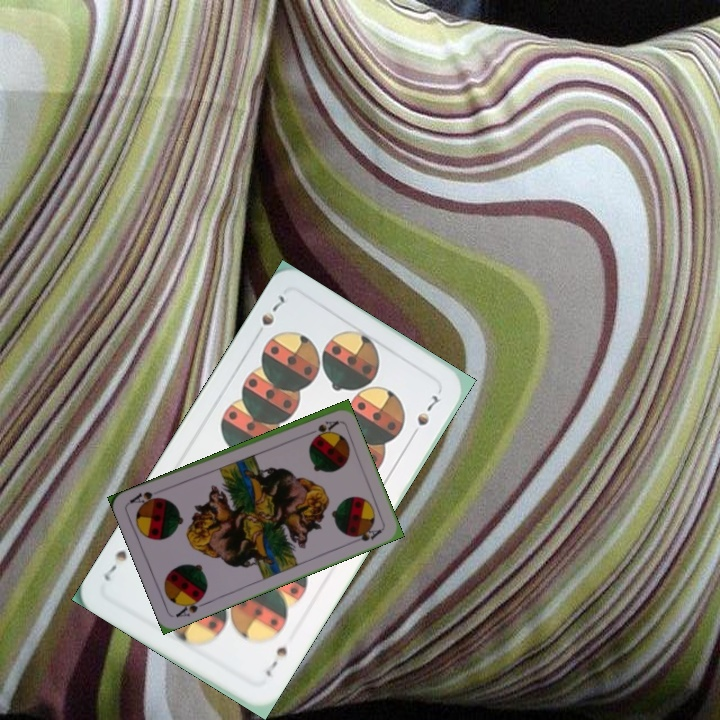S7: (250, 291, 287, 343), (261, 642, 291, 680)
SA: (171, 592, 210, 620), (301, 417, 341, 438)
